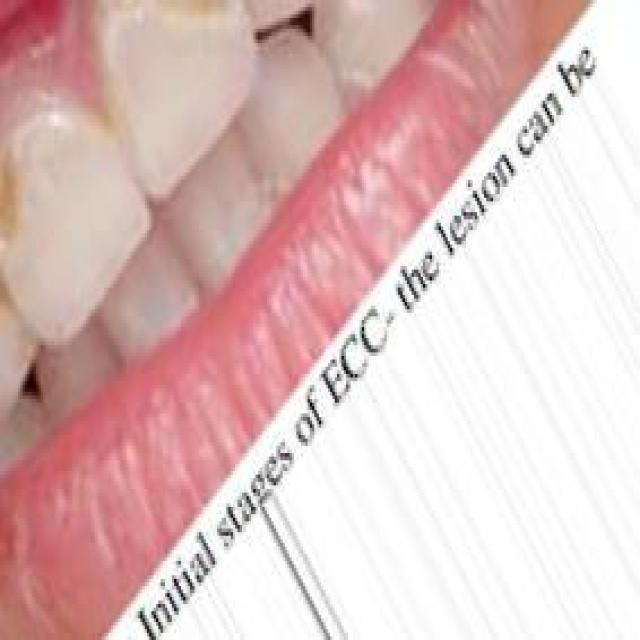caries: (0, 112, 50, 280)
